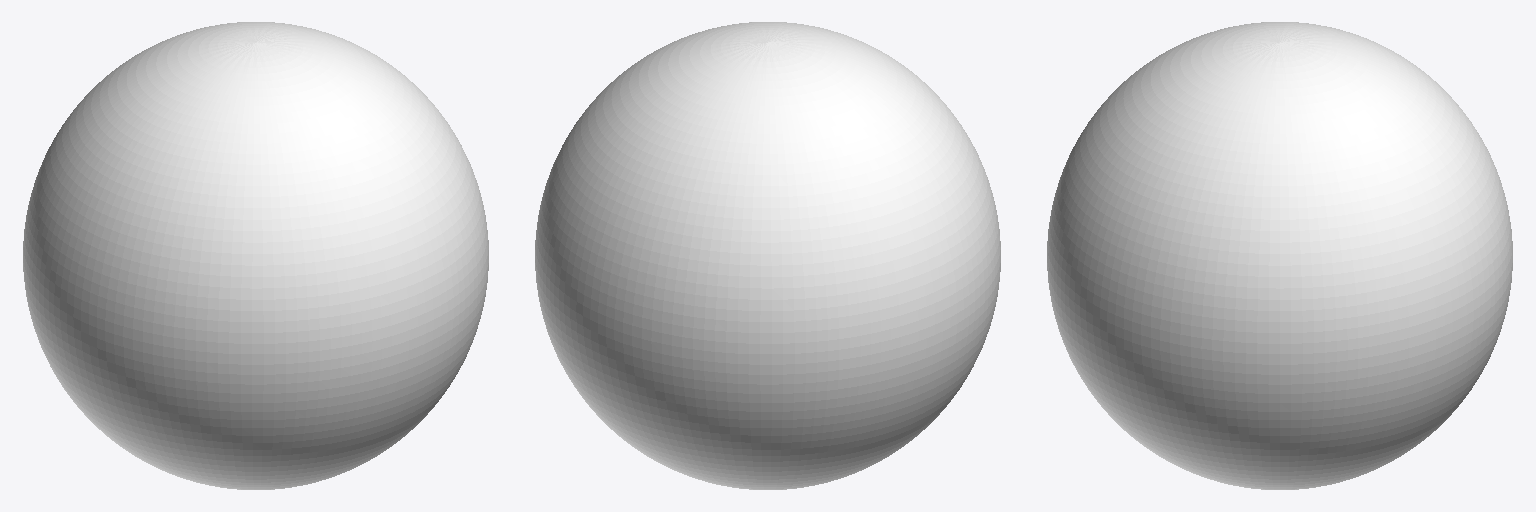
The model's file is target.obj.
3 renders of one model, left to right at view 1: azimuth 30°, elevation 25°; view 2: azimuth 150°, elevation 25°; view 3: azimuth 270°, elevation 25°, orthographic.
Size of the model in its own units: 19.74 by 19.95 by 19.74.